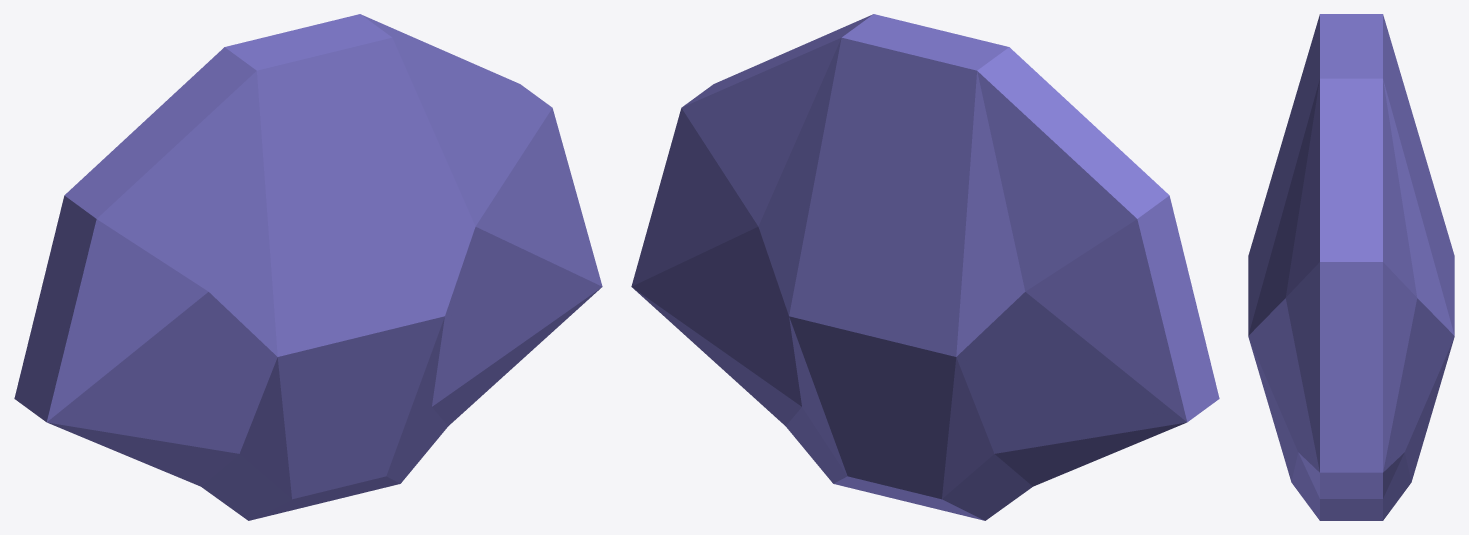
File: Seashell 1 PURPLE.fbx
3 views of the same model, side by side, from view 1: azimuth 30°, elevation 25°; view 2: azimuth 150°, elevation 25°; view 3: azimuth 270°, elevation 25° (orthographic). The views are drawn at different scales.
Parts seen in each view (by area): view 1: Box003; view 2: Box003; view 3: Box003.
Part boxes in pixels (left/top/right/bottom): Box003: left=14, top=14, right=602, bottom=520; Box003: left=631, top=14, right=1219, bottom=520; Box003: left=1248, top=14, right=1454, bottom=520.
Size of the model in its own units: 33.15 by 25.54 by 10.91.
Materials: 1 (1 with a texture image).
